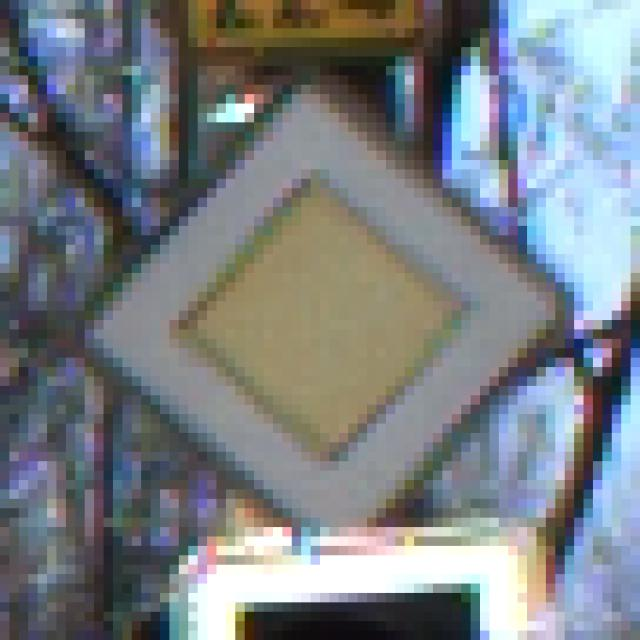Main Road: (58, 58, 585, 585)
